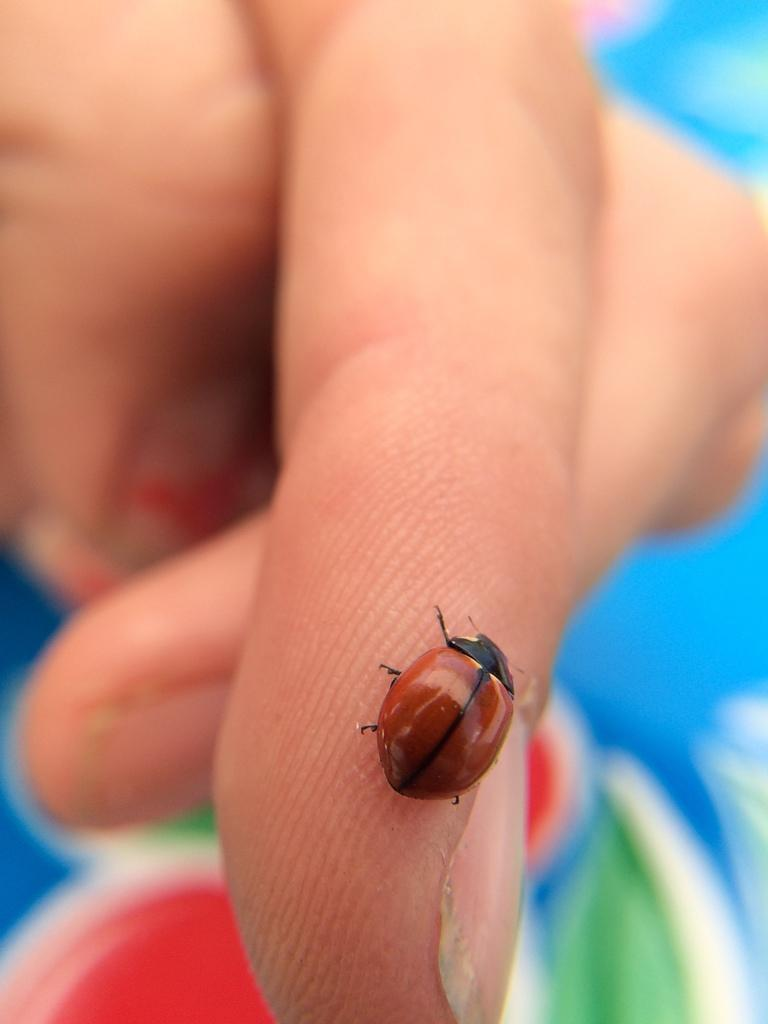ladybug: (356, 599, 521, 809)
